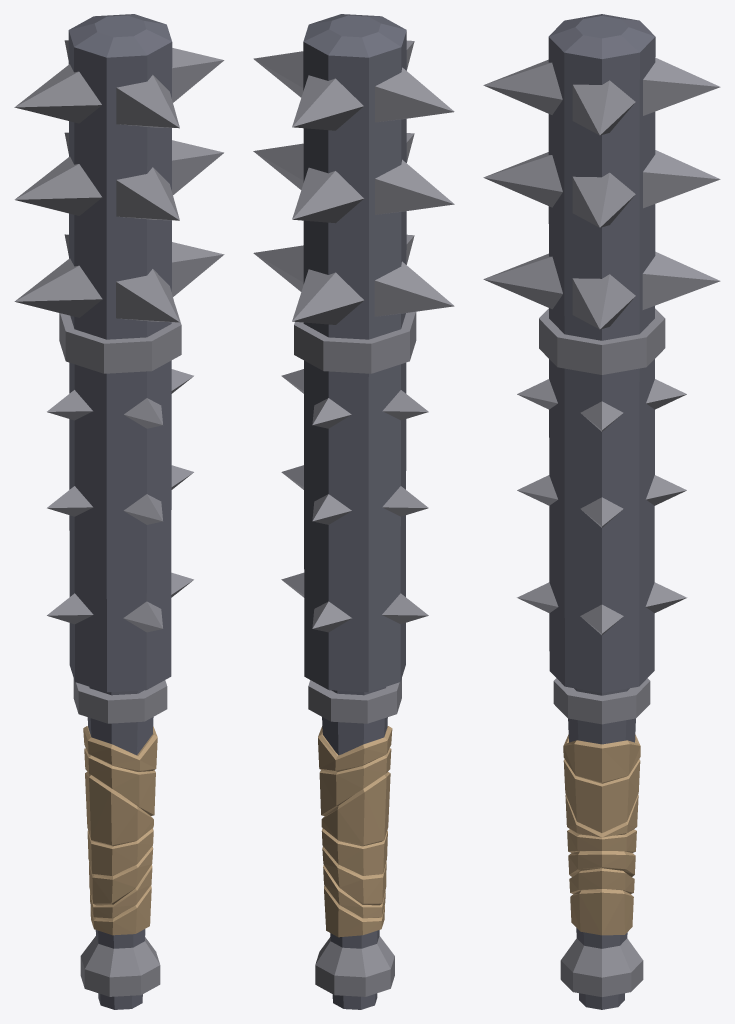
File: hammer_13.glb
3 renders of one model, left to right at view 1: azimuth 30°, elevation 25°; view 2: azimuth 150°, elevation 25°; view 3: azimuth 270°, elevation 25°, orthographic.
Parts seen in each view (by area): view 1: hammer_13; view 2: hammer_13; view 3: hammer_13.
Part boxes in pixels (x1=…): hammer_13: x1=14, y1=14, x2=224, y2=1009; hammer_13: x1=253, y1=14, x2=454, y2=1009; hammer_13: x1=483, y1=14, x2=720, y2=1009.
Bounding box in the file's own units: 0.1762 × 0.7959 × 0.1763.
1 material, 1 textured.
